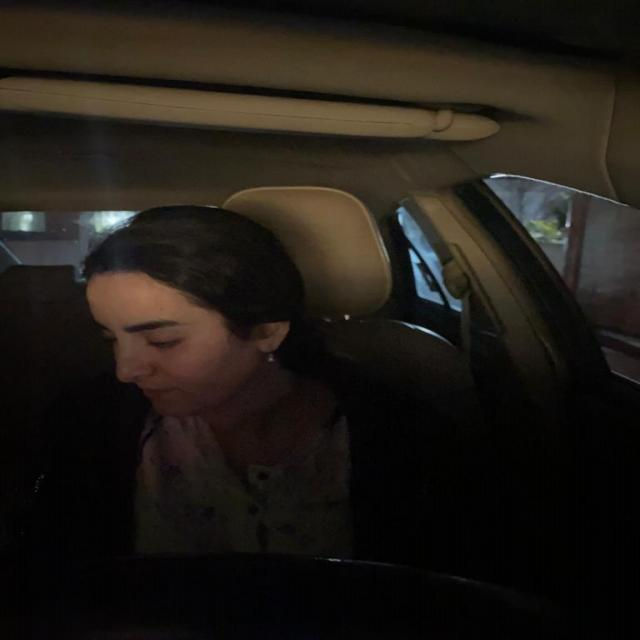LeftRight: (73, 204, 309, 420)
